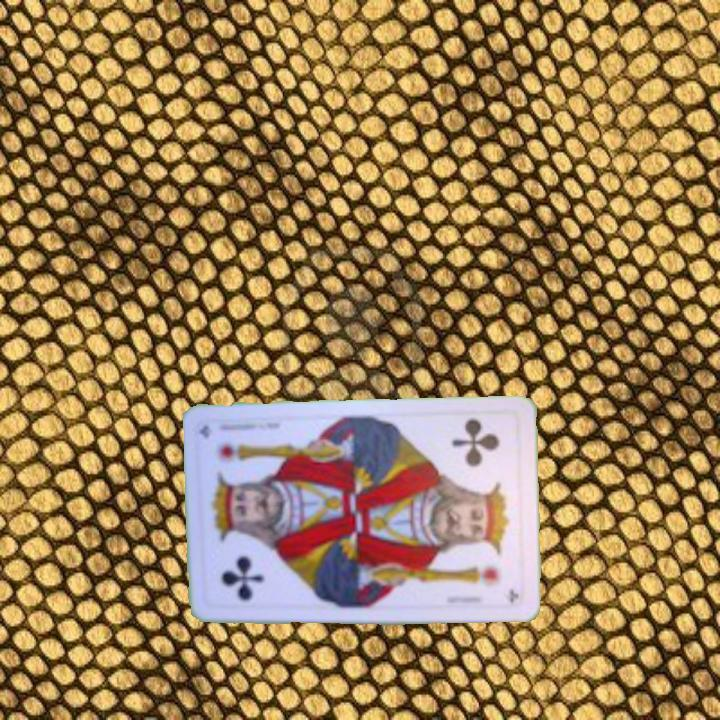c_k.png: (434, 411, 523, 513), (201, 510, 289, 612)
